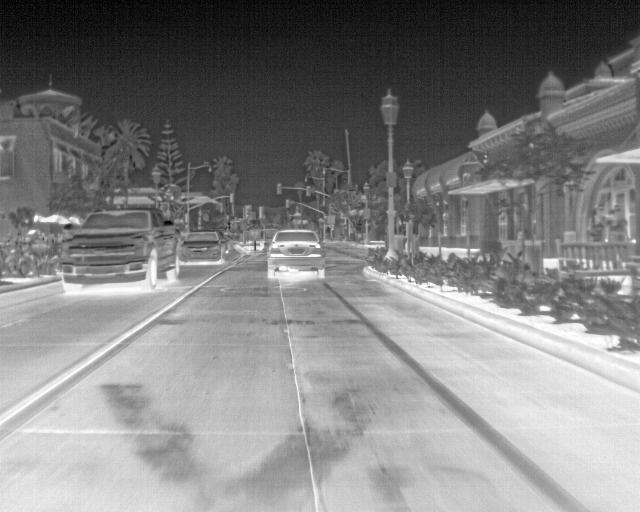bicycle: (59, 203, 181, 290), (264, 228, 328, 278), (180, 232, 228, 265)
